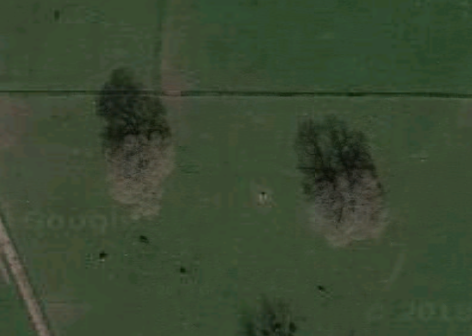tree: (295, 155, 389, 260), (98, 115, 184, 202)
